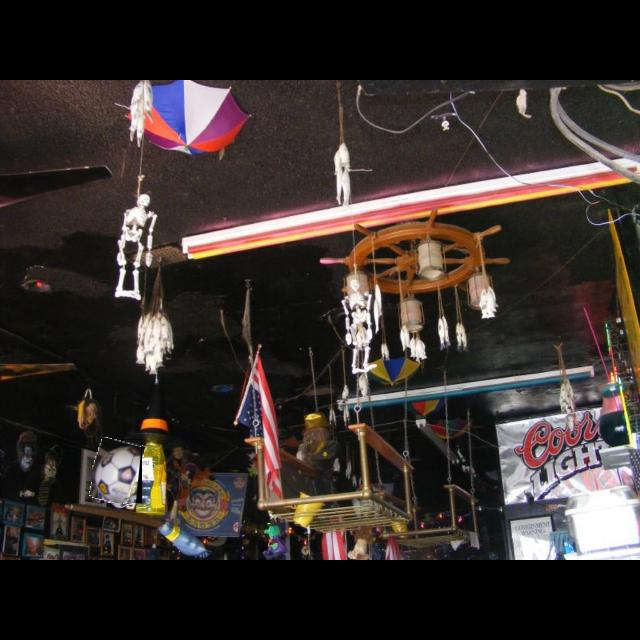Football: (92, 439, 142, 503)
